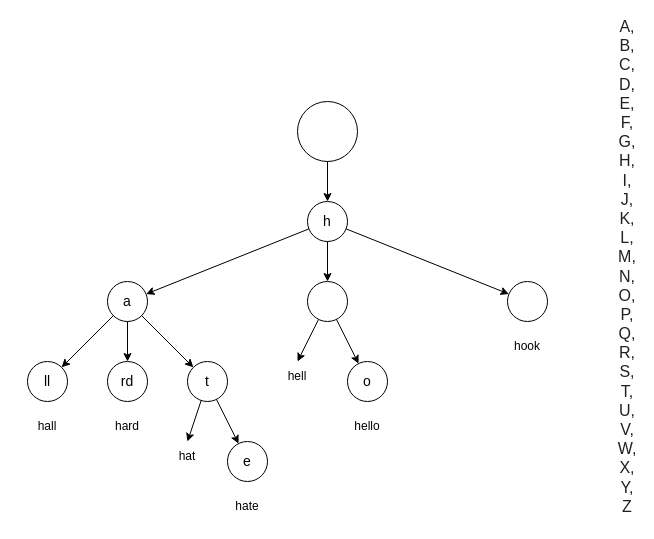
This 654x539 diagram has some shape labels left out. The shapes that lost their labels are listed below. From the top down, each one's box as (x1, y1, x2, y2) in pixels, then its label:
(296, 100, 358, 162): ROOT
(306, 280, 348, 322): ell
(506, 280, 548, 322): ook
